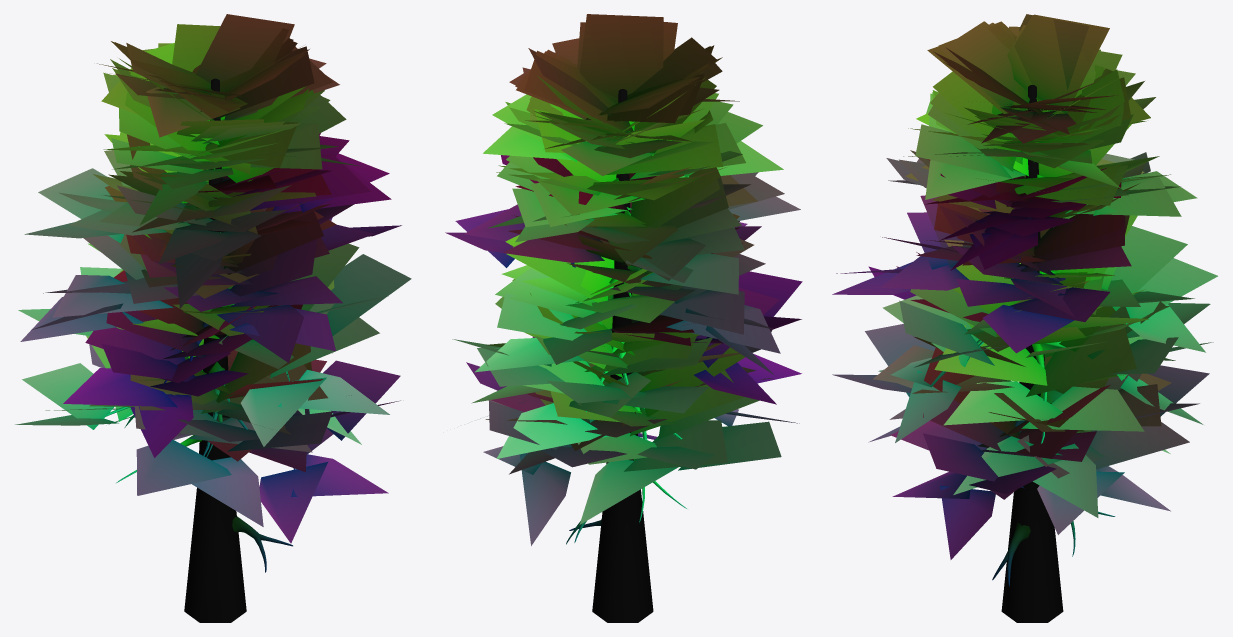
File: M_Pine_1_4.fbx
3 views of the same model, side by side, from view 1: azimuth 30°, elevation 25°; view 2: azimuth 150°, elevation 25°; view 3: azimuth 270°, elevation 25° (orthographic).
Visible parts, largest first — view 1: Tree_4; view 2: Tree_4; view 3: Tree_4.
Boxes of the visible parts, x1,y1,x2,y2 form: Tree_4: (15,14,411,622); Tree_4: (445,14,802,622); Tree_4: (832,14,1217,622).
Bounding box in the file's own units: 1333 × 2024 × 1254.
